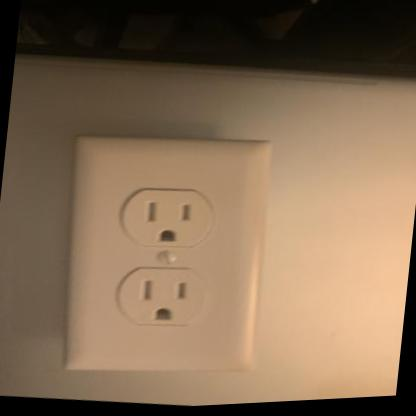OUTLET: (53, 126, 274, 384)
